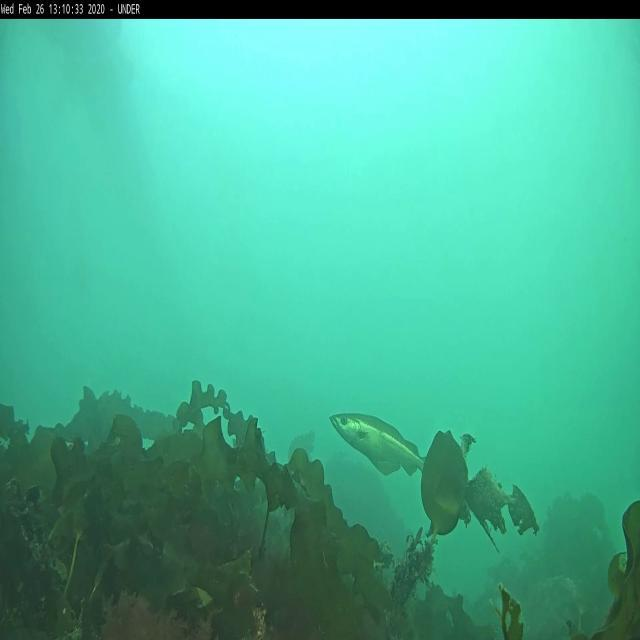fish: (330, 408, 428, 489)
